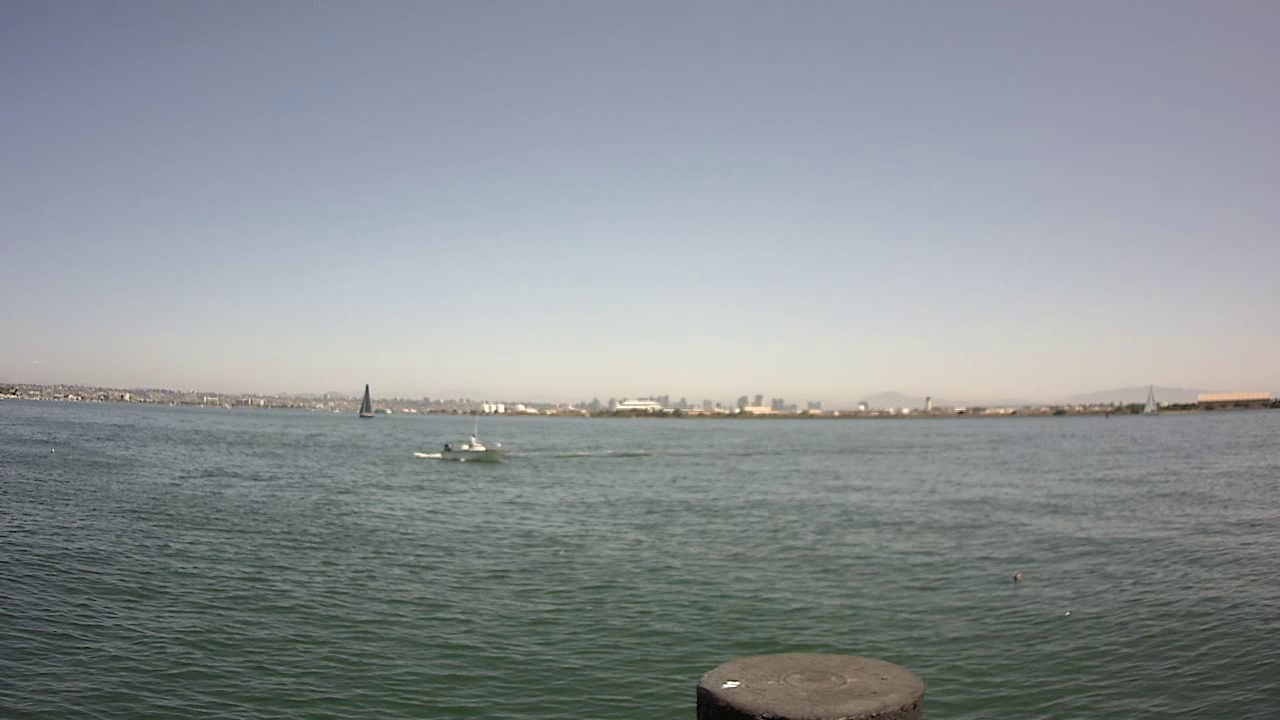target: (413, 418, 517, 469)
